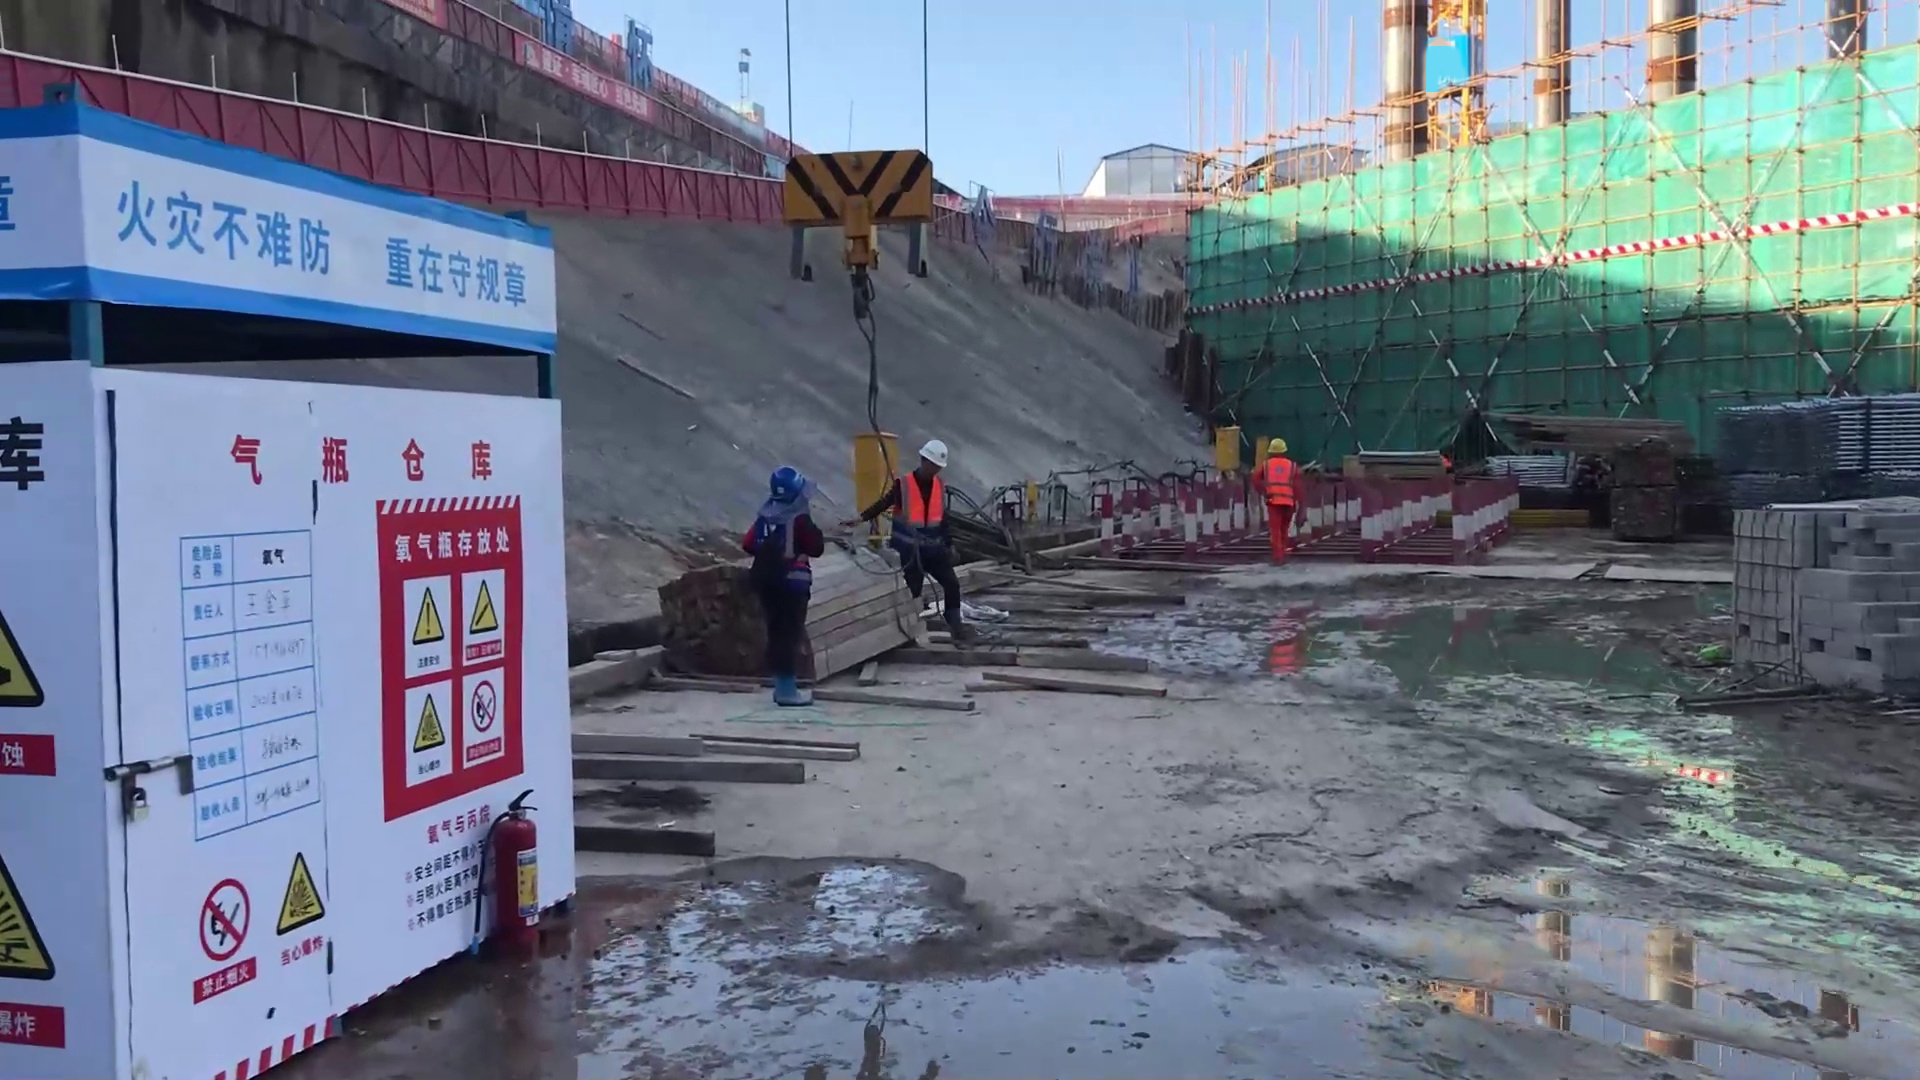brick: (1701, 490, 1920, 681), (1715, 386, 1920, 493)
ebox: (851, 425, 903, 515), (1204, 413, 1258, 481)
fence: (3, 67, 525, 201), (505, 161, 767, 224)
helmet: (752, 457, 812, 511), (903, 432, 954, 468), (1267, 431, 1290, 452)
hook: (759, 137, 947, 290)
person: (842, 440, 970, 650), (741, 464, 821, 709), (1251, 437, 1299, 568)
slogan: (63, 138, 580, 359), (359, 500, 532, 804), (163, 830, 374, 1007)
vest: (745, 503, 808, 591), (898, 474, 955, 531), (1253, 456, 1295, 511)
wood: (1504, 400, 1660, 465)
